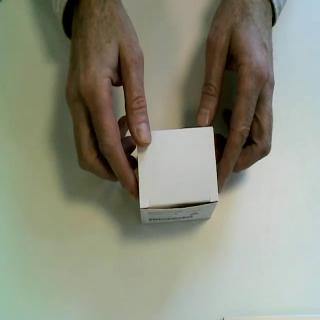apodorm5mg: (137, 124, 220, 226)
